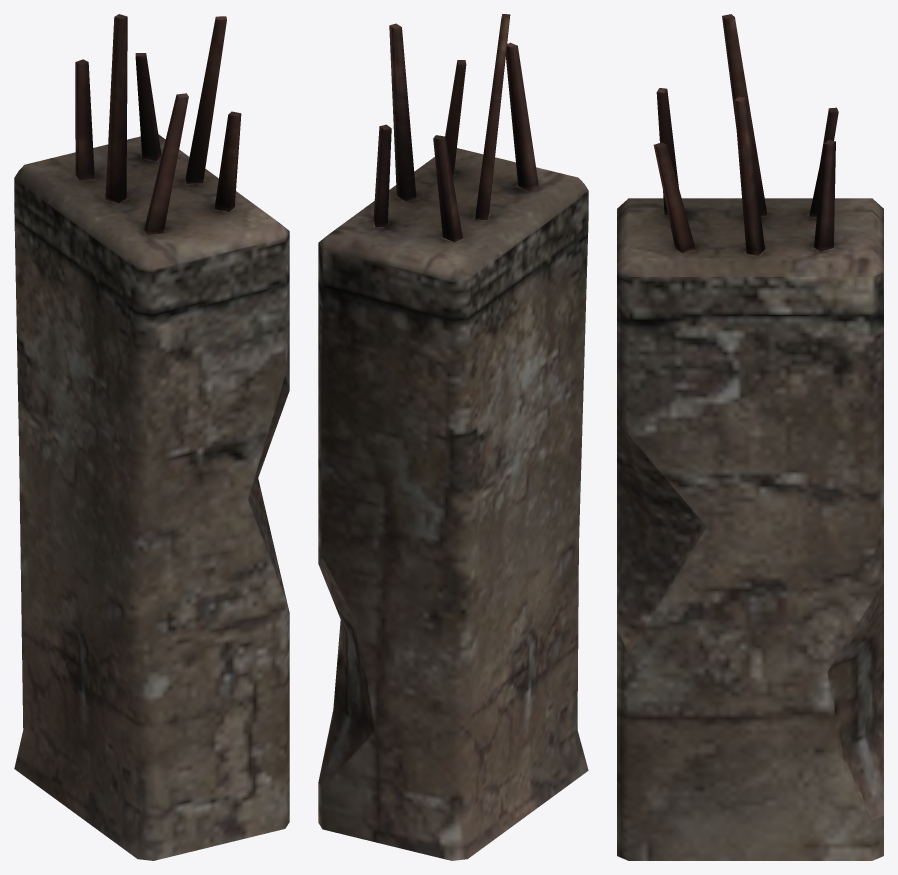
Rendered from BrokenBeam_01.FBX.
3 renders of one model, left to right at view 1: azimuth 30°, elevation 25°; view 2: azimuth 150°, elevation 25°; view 3: azimuth 270°, elevation 25°, orthographic.
Parts seen in each view (by area): view 1: BrokenBeam_01; view 2: BrokenBeam_01; view 3: BrokenBeam_01.
Boxes of the visible parts, <box> form: BrokenBeam_01: <box>14,14,289,860</box>; BrokenBeam_01: <box>318,14,588,860</box>; BrokenBeam_01: <box>617,14,883,860</box>.
Size of the model in its own units: 25.13 by 126 by 38.64.
